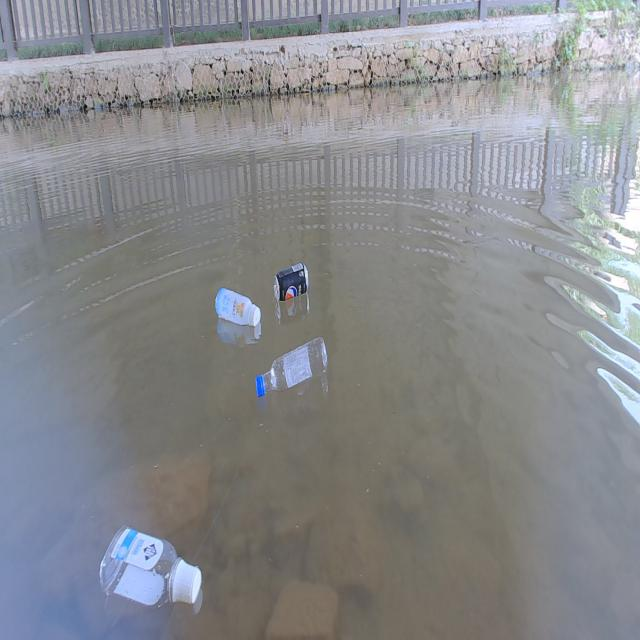Bottle: (97, 521, 202, 607), (254, 331, 329, 397), (213, 282, 262, 327)
Can: (272, 262, 311, 307)
